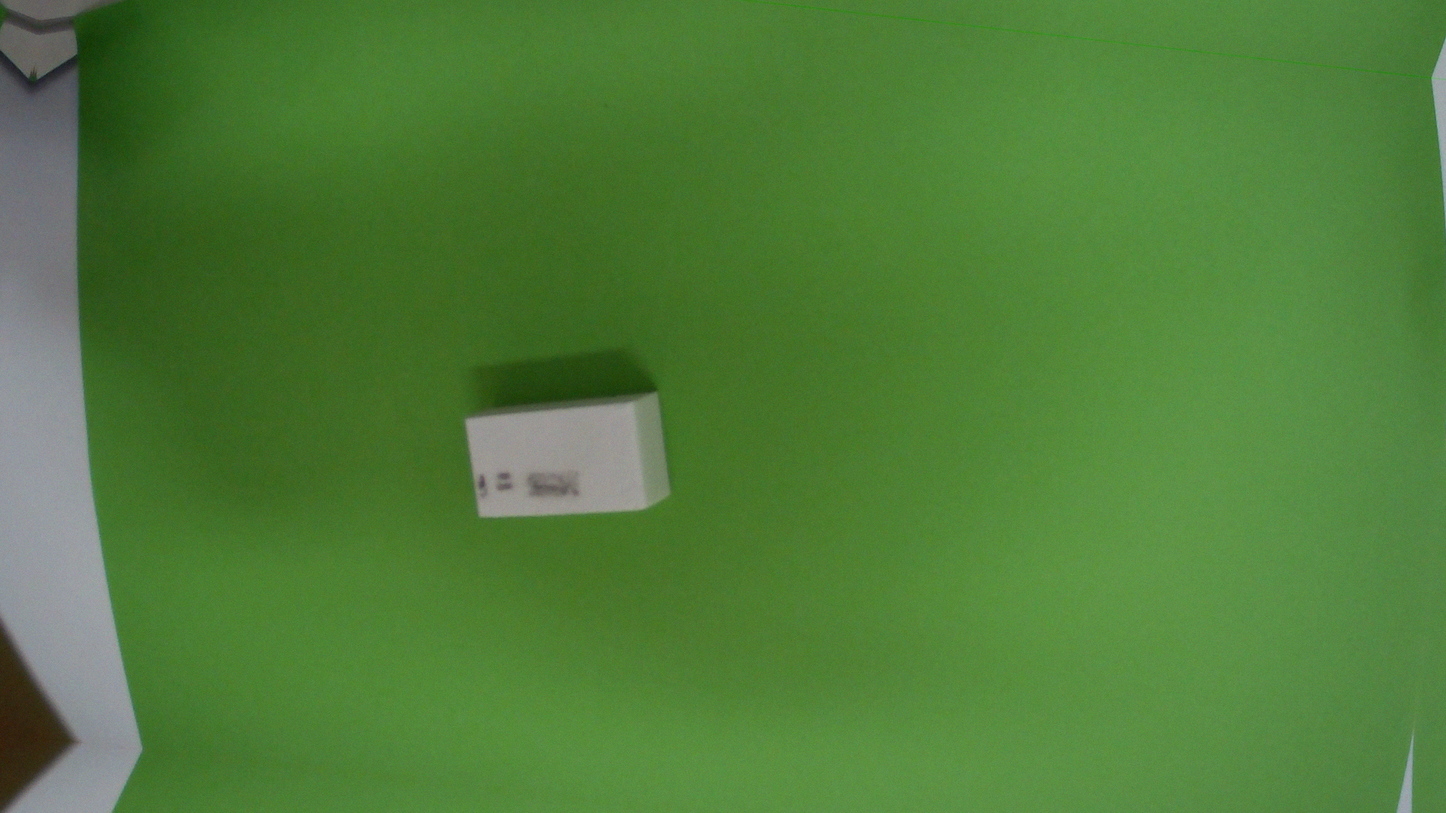gom: (456, 364, 680, 546)
